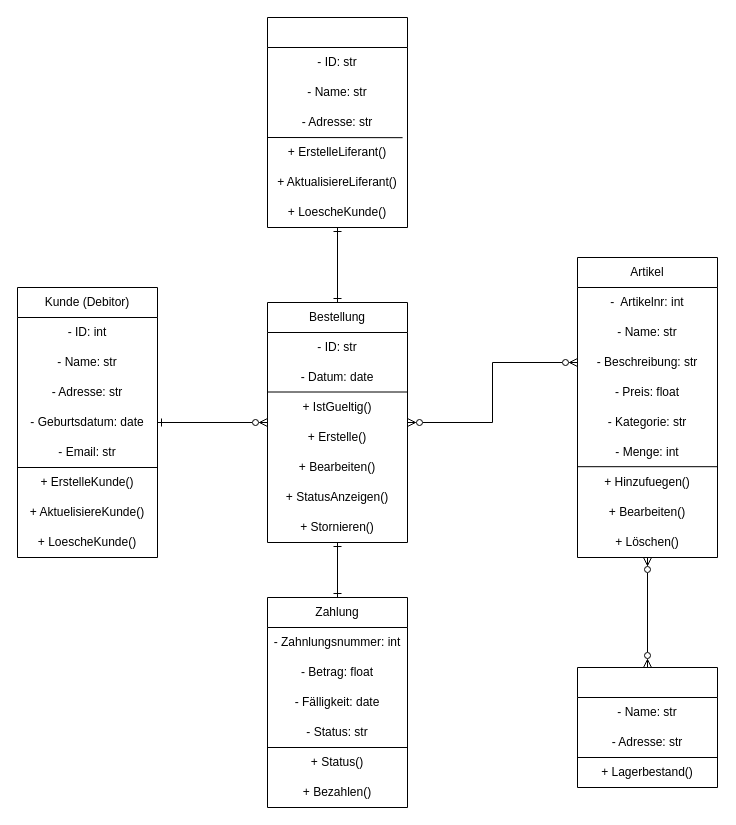
This 736x825 diagram has some shape labels left out. The shapes that lost their labels are listed below. From the top down, each one's box as (x1, y1, x2, y2) in pixels, then its label:
(266, 16, 408, 228): Lieferant (Kreditor)
(576, 666, 718, 788): Lagerort
